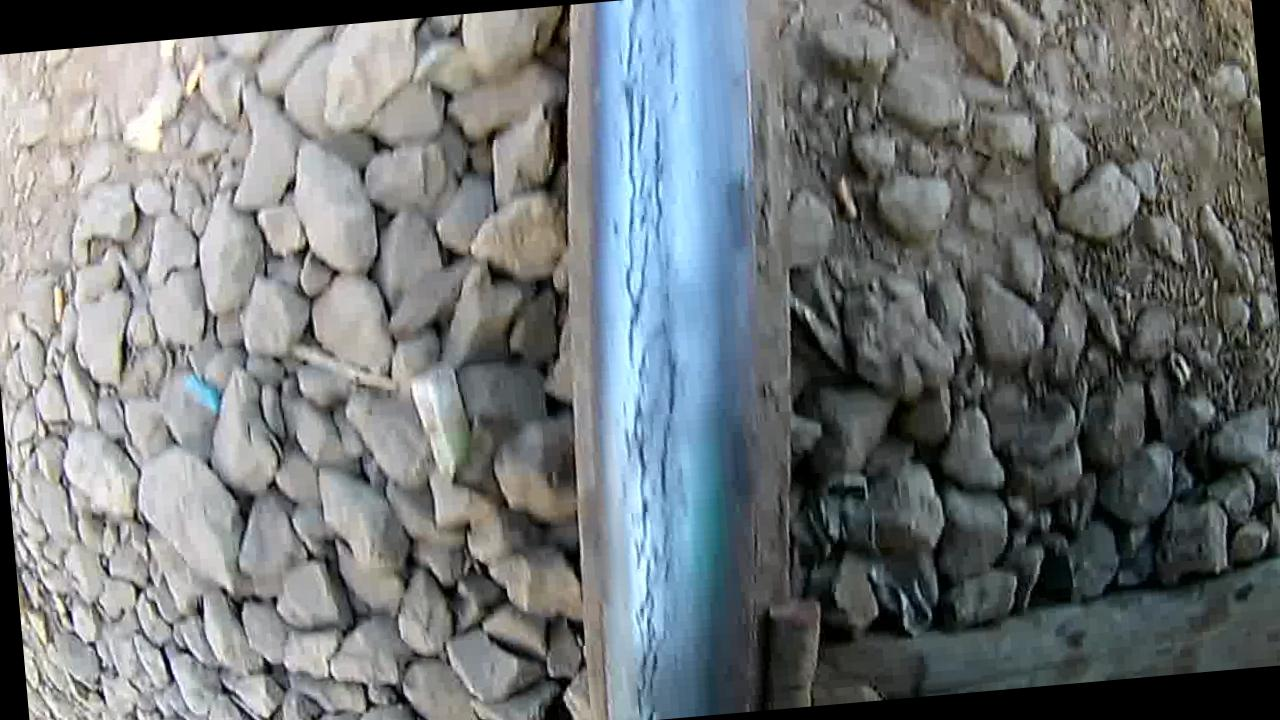normal_track: (573, 0, 734, 720)
